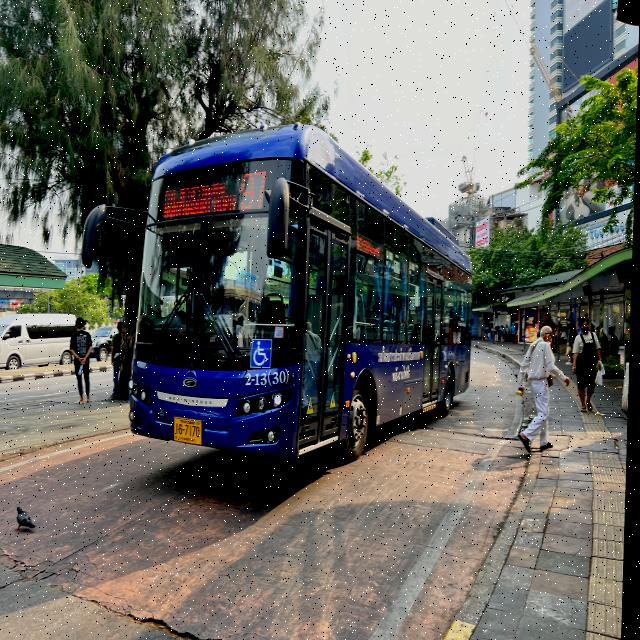Bus-Line-Number: (240, 168, 270, 210)
Destination-Sign-Normal: (160, 182, 238, 218)
TSB-Bus: (127, 126, 479, 466)
